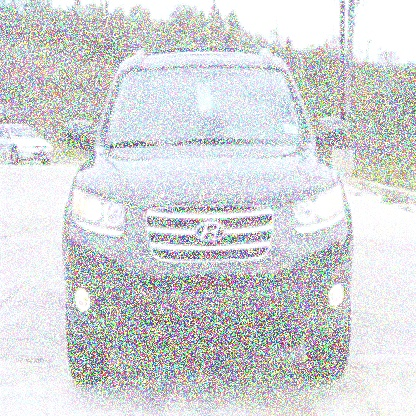Vehicle: (63, 48, 357, 388)
